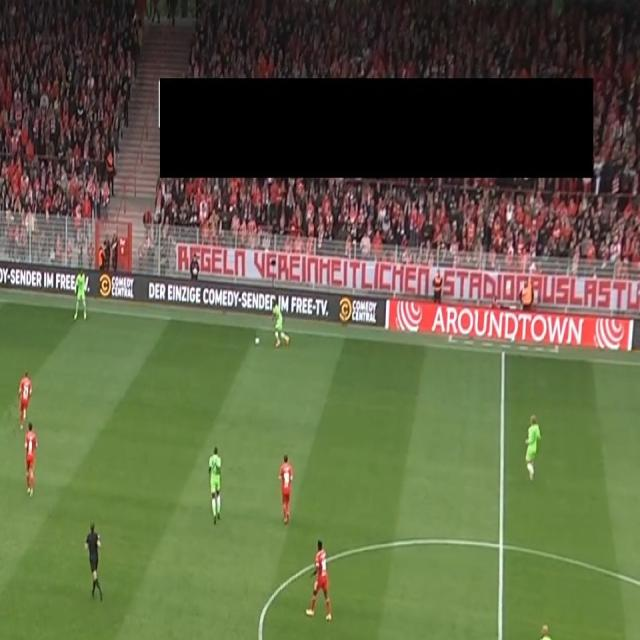ball: (254, 335, 261, 346)
